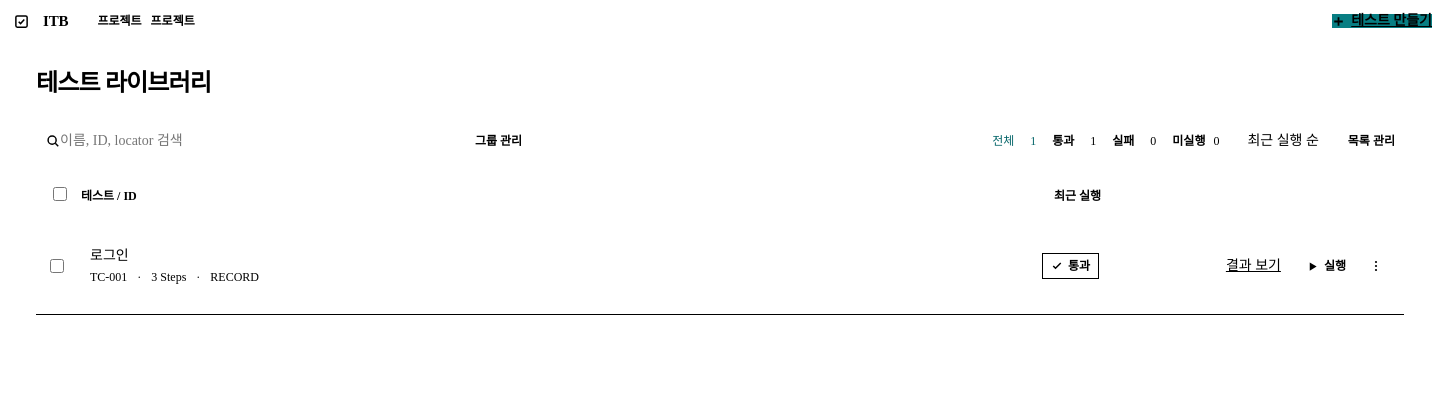
Test: 목록의 행 메뉴 단추가 이 부품이다 (017 T056) › 행의 `⋮` 가 메뉴를 연다는 사실과 열림 상태를 보조기술에 알린다
Click the button named "로그인 추가 동작" at (1376, 266), box [1362,252,1390,280]
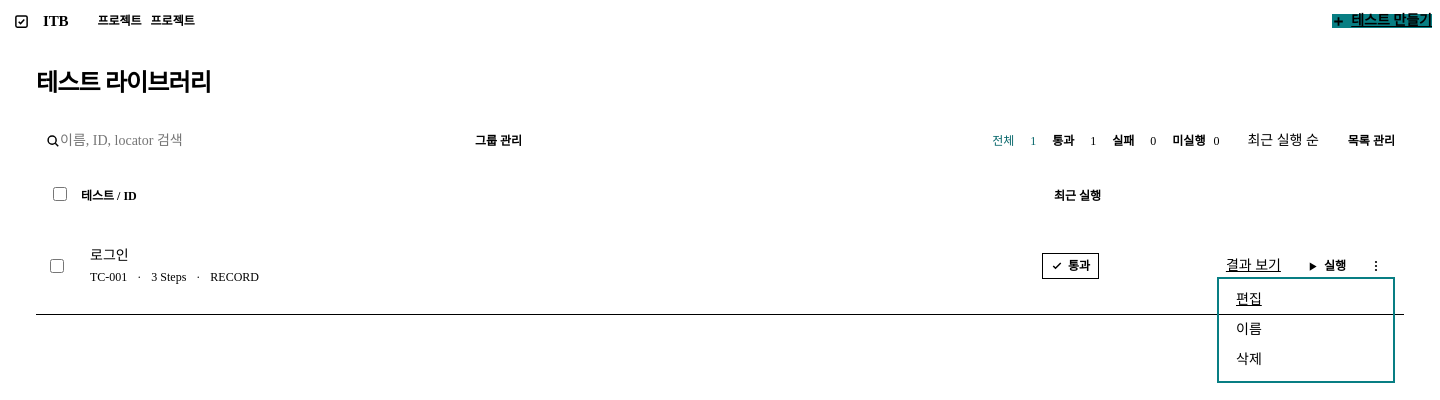
Check: the menu items read "편집", "이름", "삭제", in this order, box [1236,292,1262,307]; [1236,322,1262,337]; [1236,352,1262,367]
